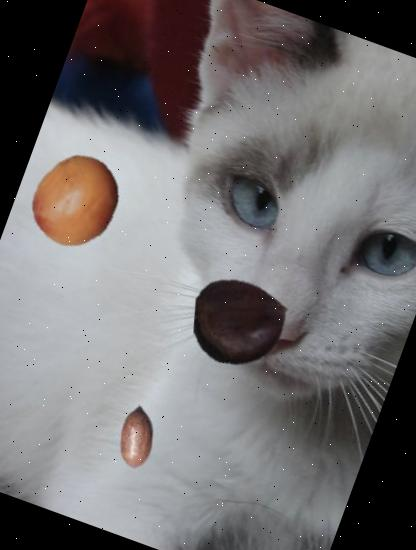Apricot: (14, 140, 138, 263)
Chestnut: (180, 263, 300, 382)
Nut: (95, 396, 177, 478)
